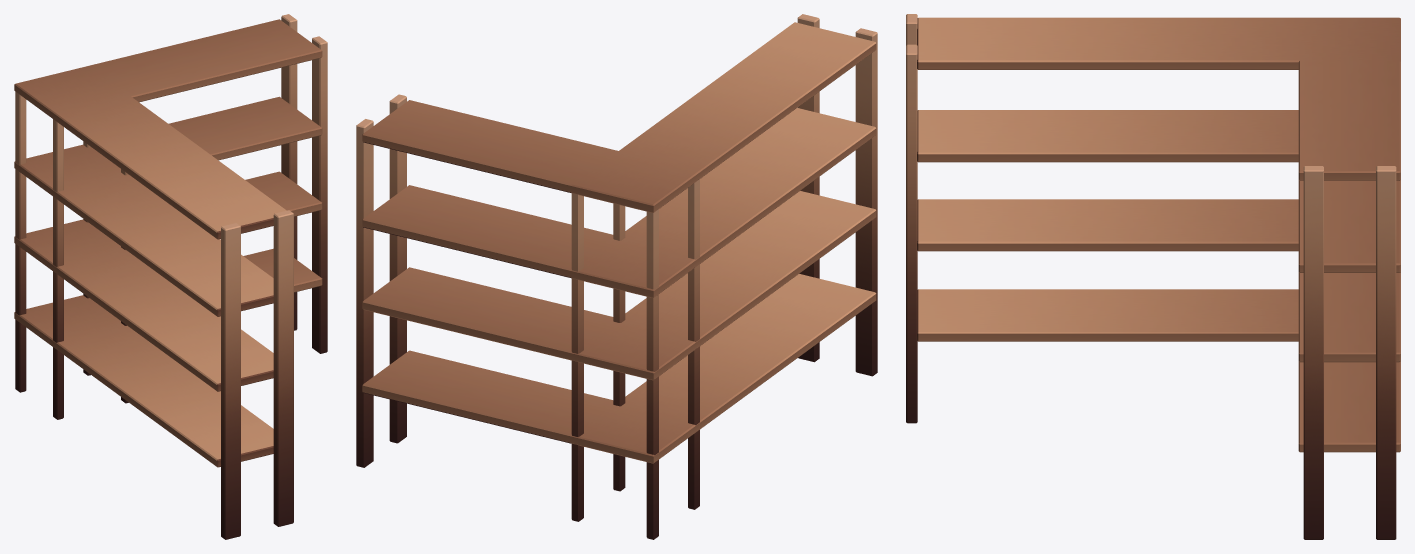
File: SM_thinnedCornerShelf.fbx
3 views of the same model, side by side, from view 1: azimuth 30°, elevation 25°; view 2: azimuth 150°, elevation 25°; view 3: azimuth 270°, elevation 25° (orthographic). The views are drawn at different scales.
Visible parts, largest first — view 1: door:cornershelf; view 2: door:cornershelf; view 3: door:cornershelf.
Boxes of the visible parts, left/top/right/bottom form: door:cornershelf: left=14, top=14, right=327, bottom=539; door:cornershelf: left=356, top=14, right=877, bottom=539; door:cornershelf: left=906, top=14, right=1400, bottom=539.
Size of the model in its own units: 1763 by 1916 by 2321.
